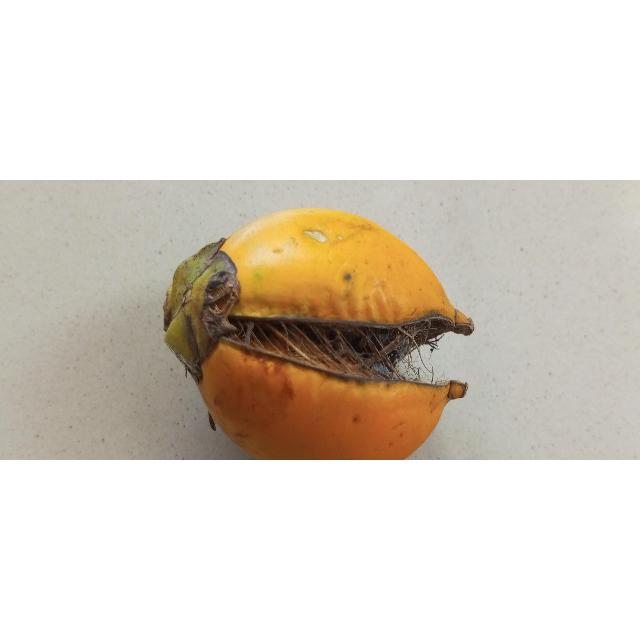damaged: (161, 208, 476, 461)
